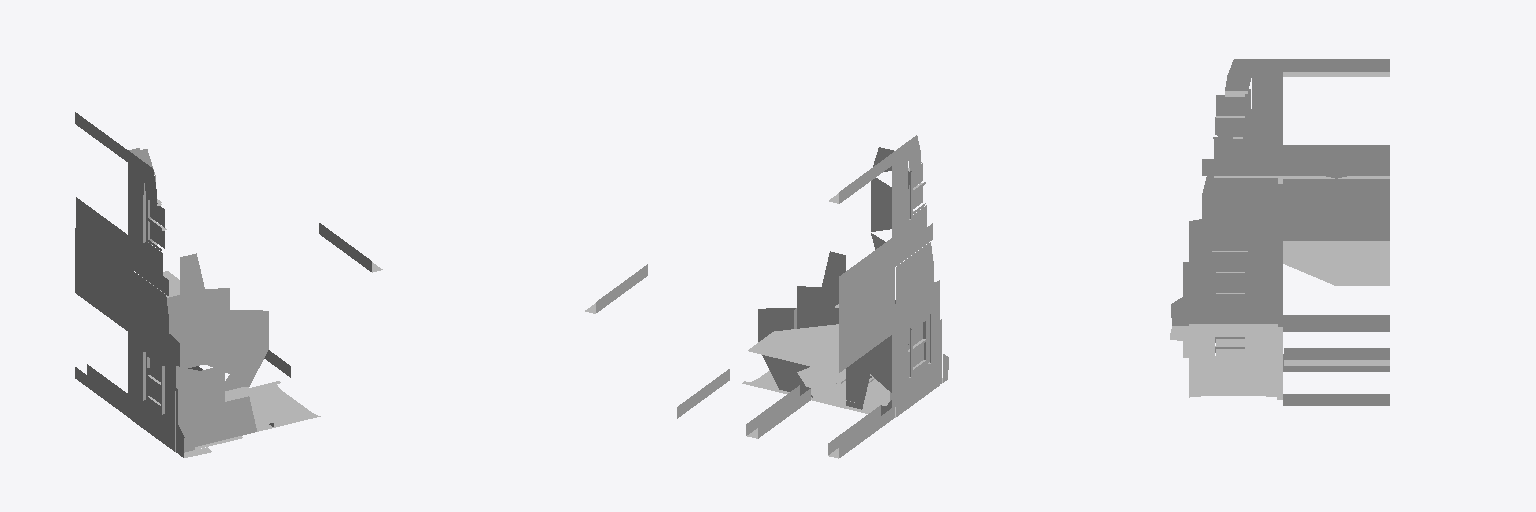
The model's file is Destory2.obj.
3 renders of one model, left to right at view 1: azimuth 30°, elevation 25°; view 2: azimuth 150°, elevation 25°; view 3: azimuth 270°, elevation 25°, orthographic.
Parts seen in each view (by area): view 1: Destory2; view 2: Destory2; view 3: Destory2.
Part boxes in pixels (bbox=[...]): Destory2: bbox=[75, 112, 382, 457]; Destory2: bbox=[585, 135, 948, 458]; Destory2: bbox=[1170, 59, 1389, 405].
Bounding box in the file's own units: 10.11 × 10.12 × 7.43.